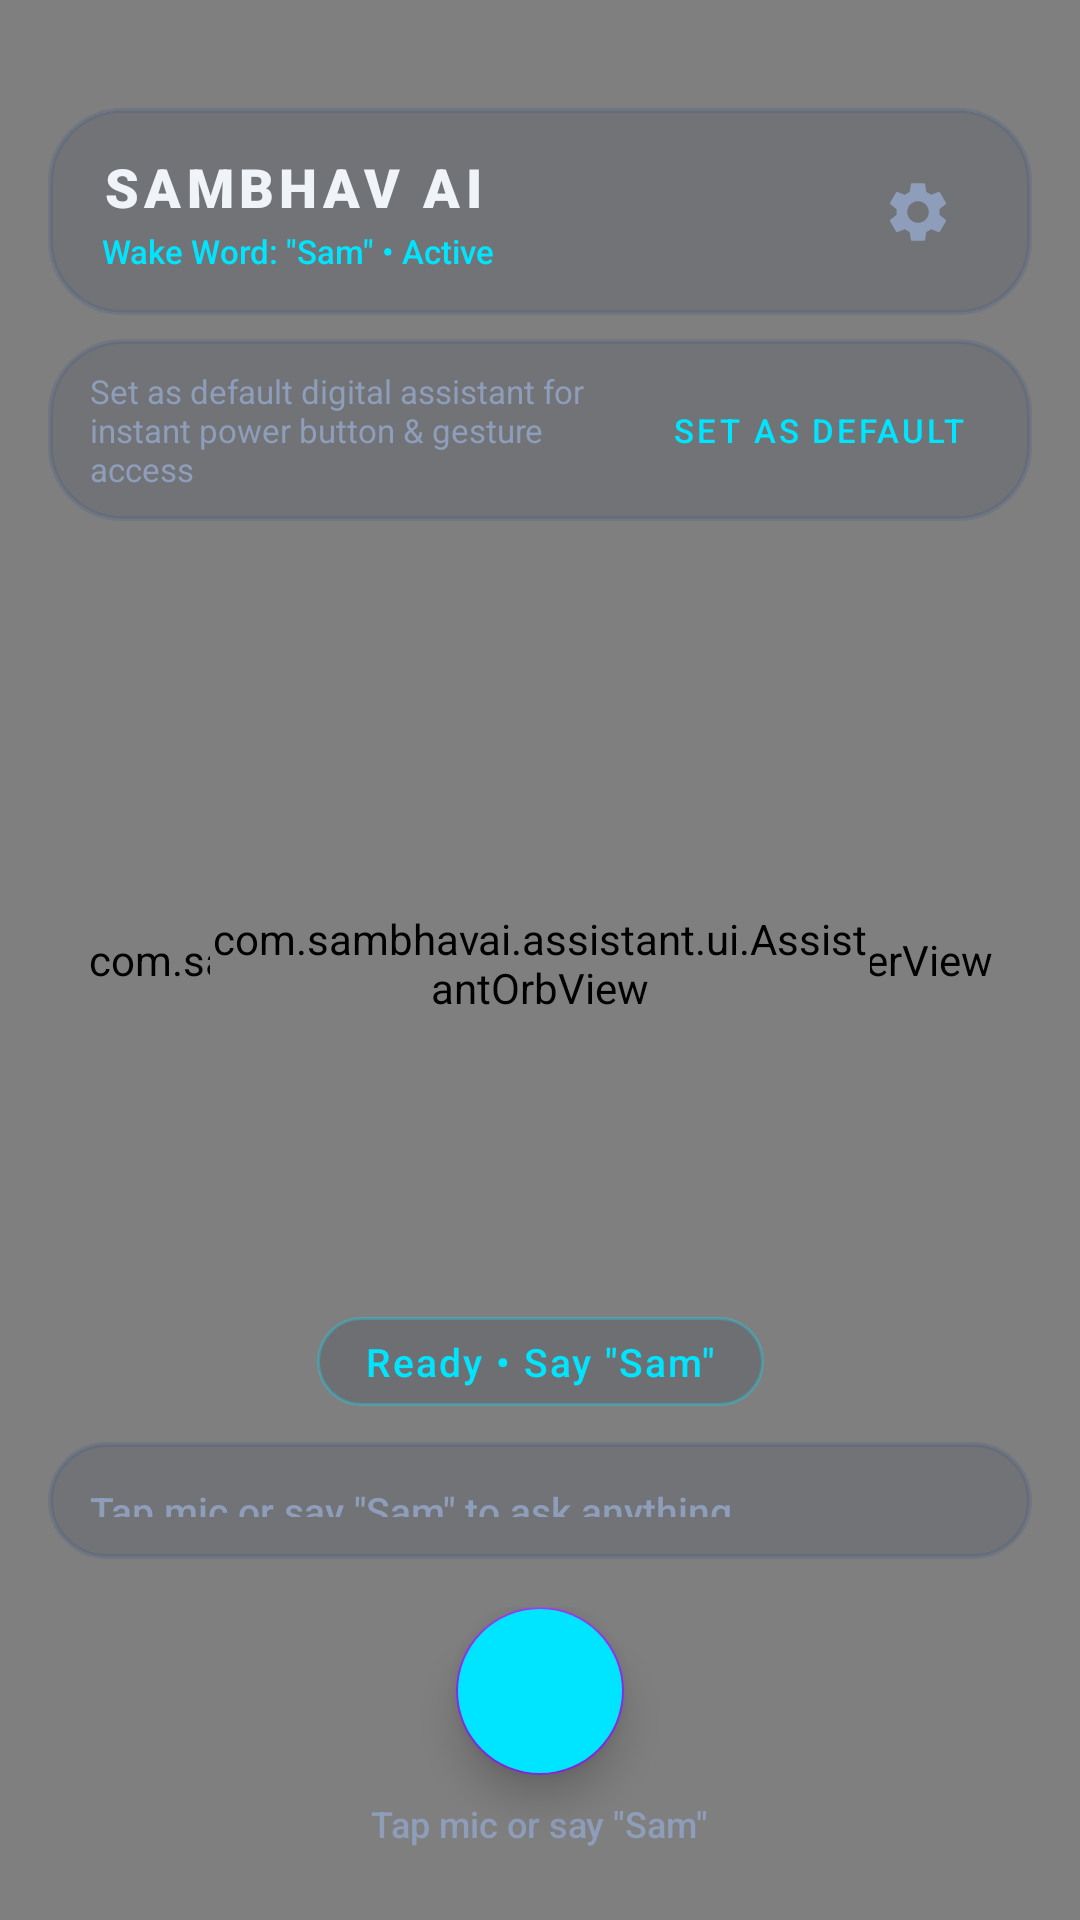

Point at icon controls on the screen. Image size 1080×1920, points as [x,y].
Assistant Settings: [918,212]
